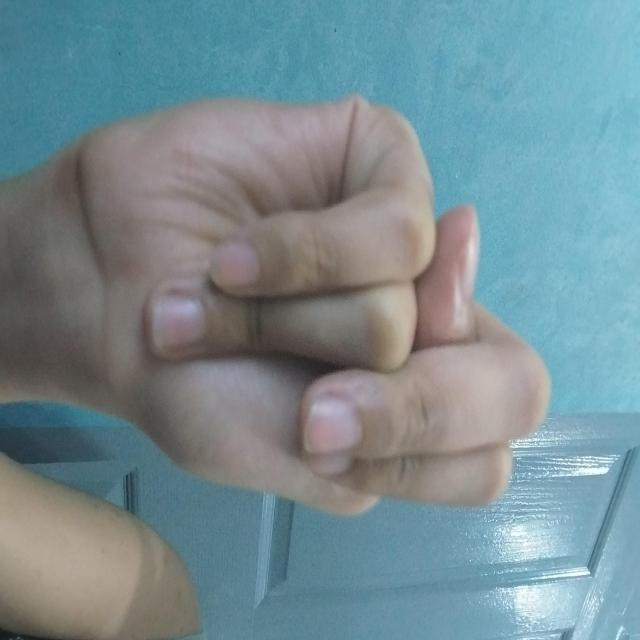N: (92, 86, 520, 562)
